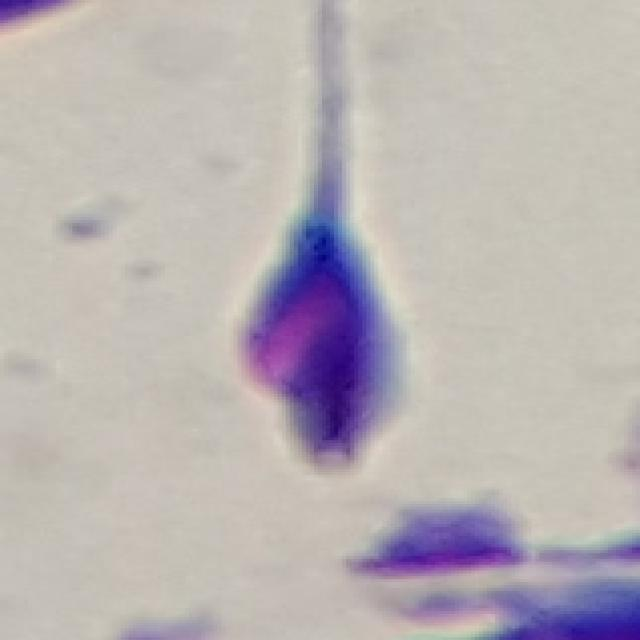abnormal sperm: (228, 84, 418, 472)
